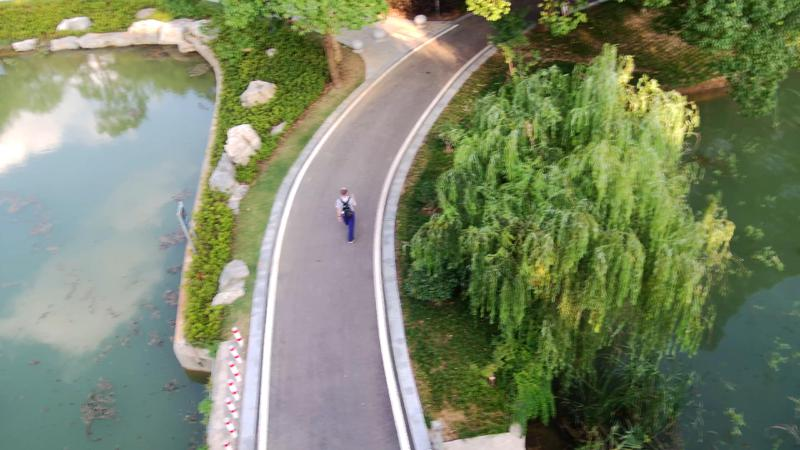passerby: (331, 186, 359, 245)
